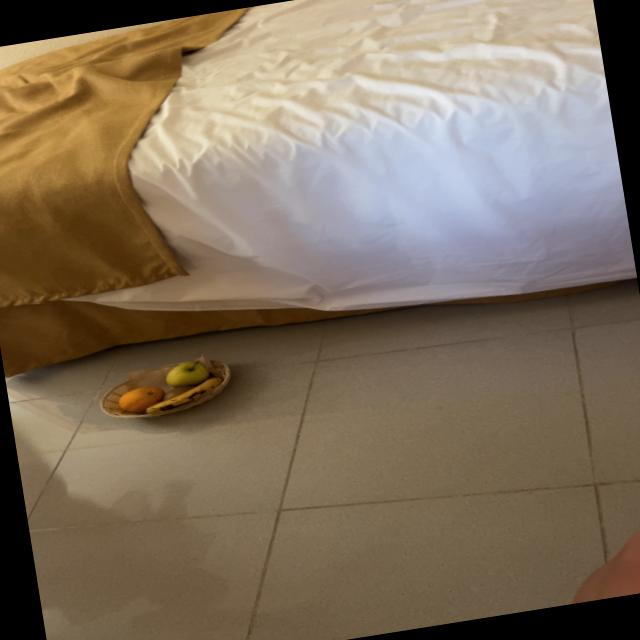apple: (166, 361, 210, 387)
bananas: (146, 370, 230, 415)
orange: (119, 386, 165, 413)
